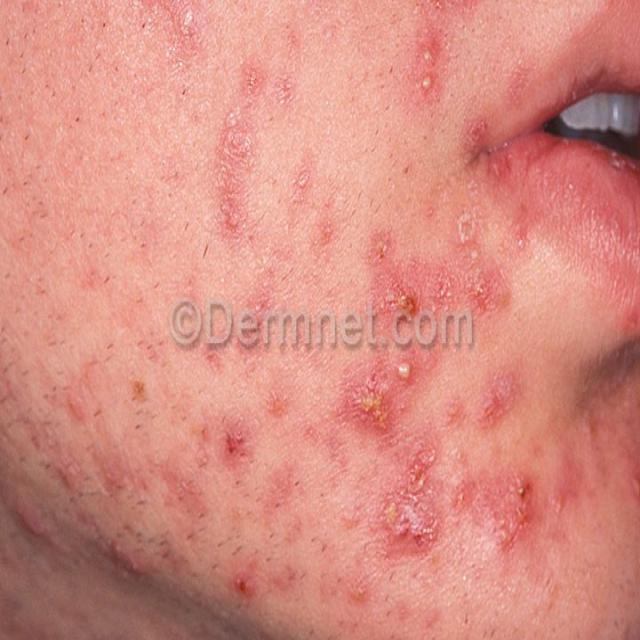acne: (62, 61, 600, 637), (346, 220, 540, 578)
